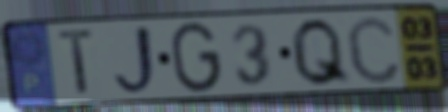3: (227, 21, 273, 89)
C: (343, 13, 404, 87)
G: (169, 19, 224, 96)
J: (110, 23, 163, 99)
Q: (288, 15, 355, 89)
T: (56, 25, 98, 100)
